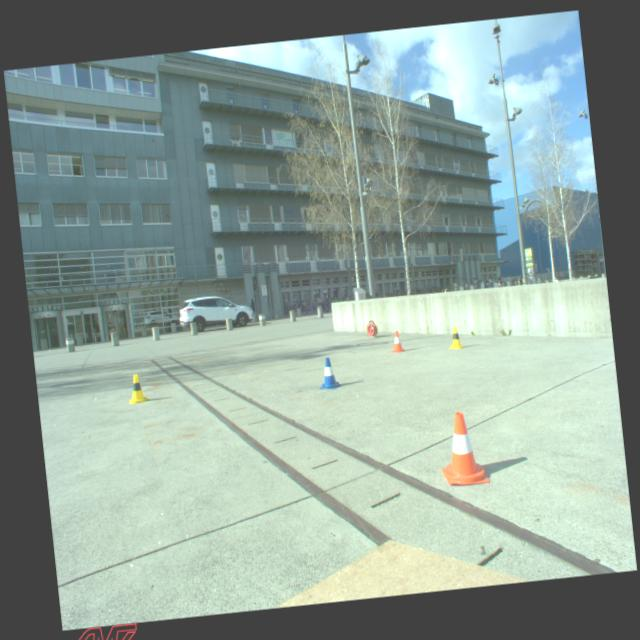blue_cone: (316, 356, 340, 390)
orange_cone: (436, 407, 490, 487), (388, 330, 404, 352)
yellow_cone: (126, 372, 148, 403), (446, 324, 464, 350)
